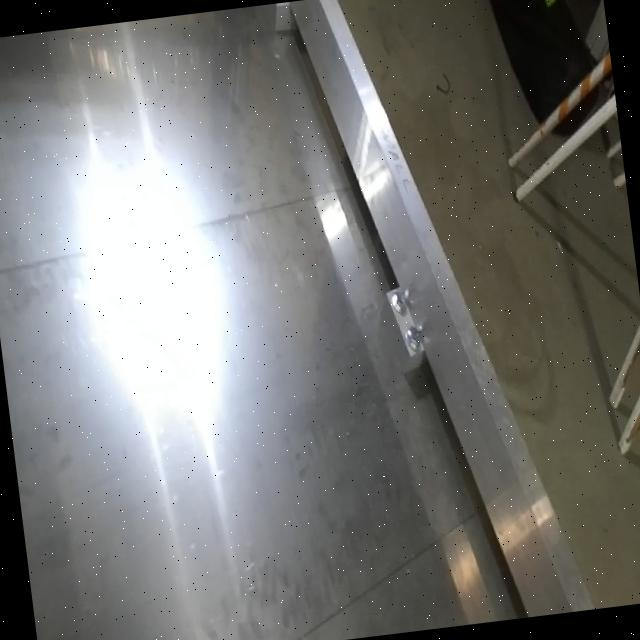blocks: (376, 257, 463, 396), (266, 0, 315, 56)
